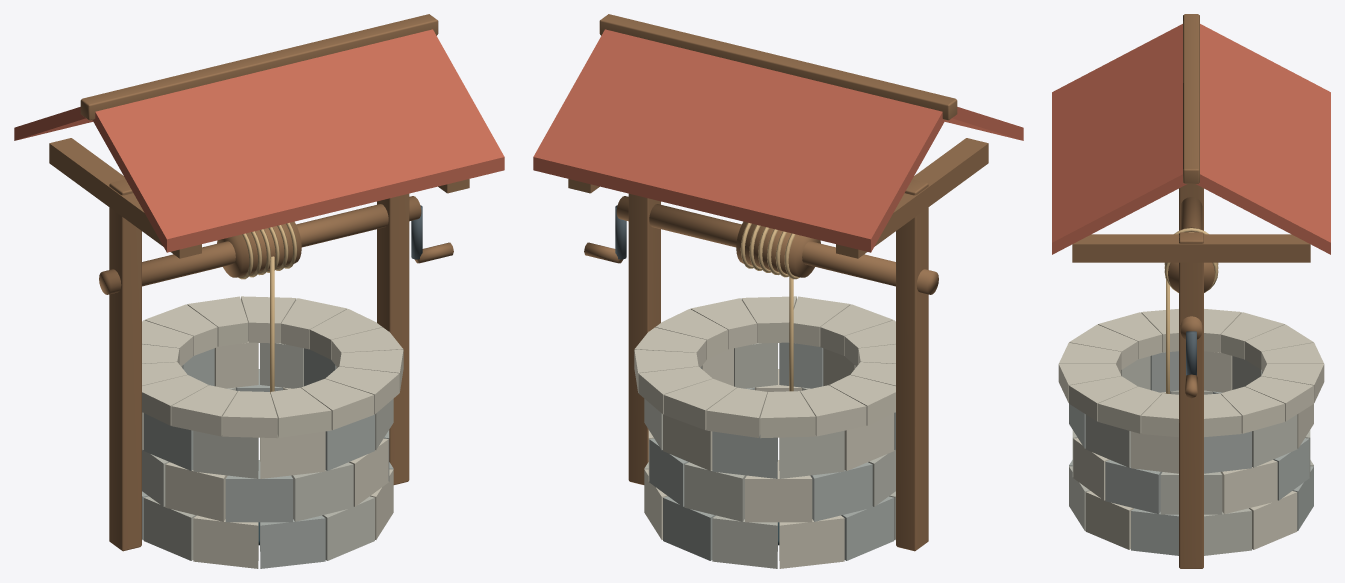
Rendered from well.glb.
3 renders of one model, left to right at view 1: azimuth 30°, elevation 25°; view 2: azimuth 150°, elevation 25°; view 3: azimuth 270°, elevation 25°, orthographic. The views are drawn at different scales.
Visible parts, largest first — view 1: Well roof post, Clay well roof tile, Clay well roof tile.003, Clay well roof tile.002, Clay well roof tile.004, Clay well roof tile.005, Clay well roof tile.001, Clay well roof tile.006, Well roof post.001, Well roof ridge, Well winding axle, Well roof side rail (+37 smaller); view 2: Well roof post, Clay well roof tile.007, Clay well roof tile.010, Clay well roof tile.009, Clay well roof tile.011, Clay well roof tile.012, Clay well roof tile.008, Clay well roof tile.013, Well roof post.001, Well roof ridge, Well winding axle, Well roof side rail (+36 smaller); view 3: Well roof post.001, Well roof side rail.001, Clay well roof tile.006, Clay well roof tile.013, Clay well roof tile, Clay well roof tile.007, Clay well roof tile.003, Clay well roof tile.004, Clay well roof tile.010, Clay well roof tile.011, Clay well roof tile.001, Clay well roof tile.002 (+47 smaller).
Boxes of the visible parts, bbox=[...] form: Well roof post: bbox=[109, 179, 141, 551]; Clay well roof tile: bbox=[92, 100, 215, 252]; Clay well roof tile.003: bbox=[240, 64, 359, 217]; Clay well roof tile.002: bbox=[192, 76, 311, 228]; Clay well roof tile.004: bbox=[288, 53, 408, 205]; Clay well roof tile.005: bbox=[336, 41, 456, 193]; Clay well roof tile.001: bbox=[143, 88, 263, 240]; Clay well roof tile.006: bbox=[385, 29, 504, 181]; Well roof post.001: bbox=[377, 193, 409, 484]; Well roof ridge: bbox=[80, 14, 438, 120]; Well winding axle: bbox=[99, 196, 421, 294]; Well roof side rail: bbox=[49, 138, 201, 258]; Well roof post: bbox=[896, 179, 928, 551]; Clay well roof tile.007: bbox=[822, 100, 945, 252]; Clay well roof tile.010: bbox=[678, 64, 797, 217]; Clay well roof tile.009: bbox=[726, 76, 845, 228]; Clay well roof tile.011: bbox=[629, 53, 749, 205]; Clay well roof tile.012: bbox=[581, 41, 701, 193]; Clay well roof tile.008: bbox=[774, 88, 894, 240]; Clay well roof tile.013: bbox=[533, 29, 652, 181]; Well roof post.001: bbox=[628, 193, 660, 484]; Well roof ridge: bbox=[599, 14, 957, 120]; Well winding axle: bbox=[616, 196, 938, 294]; Well roof side rail: bbox=[836, 138, 988, 258]; Well roof post.001: bbox=[1179, 232, 1203, 568]; Well roof side rail.001: bbox=[1072, 234, 1310, 262]; Clay well roof tile.006: bbox=[1052, 153, 1186, 254]; Clay well roof tile.013: bbox=[1196, 153, 1330, 254]; Clay well roof tile: bbox=[1052, 24, 1182, 113]; Clay well roof tile.007: bbox=[1200, 24, 1330, 113]; Clay well roof tile.003: bbox=[1052, 88, 1182, 177]; Clay well roof tile.004: bbox=[1052, 110, 1182, 199]; Clay well roof tile.010: bbox=[1200, 88, 1330, 177]; Clay well roof tile.011: bbox=[1200, 110, 1330, 199]; Clay well roof tile.001: bbox=[1052, 45, 1182, 134]; Clay well roof tile.002: bbox=[1052, 67, 1182, 156].
Size of the model in its own units: 2.3 by 2.72 by 1.66.
